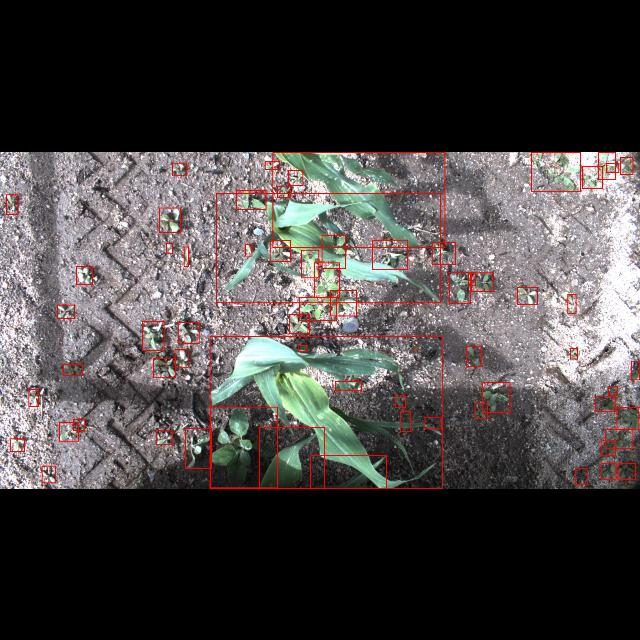crop: (210, 336, 442, 488), (216, 192, 440, 302), (273, 152, 445, 246), (259, 427, 325, 488), (310, 456, 386, 488)
weed: (210, 407, 278, 488), (532, 152, 580, 190), (185, 428, 211, 468), (372, 240, 408, 268), (314, 262, 340, 298), (300, 296, 336, 320), (482, 382, 510, 412), (322, 234, 346, 268), (330, 290, 356, 316), (142, 320, 164, 350), (450, 272, 470, 302), (236, 190, 266, 208), (605, 429, 633, 448), (432, 242, 456, 264), (160, 206, 180, 232), (617, 407, 639, 429), (598, 152, 616, 178), (302, 249, 318, 277), (582, 165, 602, 187), (153, 358, 175, 377), (178, 322, 198, 342), (270, 240, 290, 260), (289, 314, 309, 334), (471, 272, 493, 290), (517, 286, 537, 304), (60, 422, 78, 441), (466, 346, 482, 366), (77, 266, 93, 284), (618, 463, 636, 479), (334, 381, 362, 391), (595, 396, 615, 410), (600, 463, 616, 479), (600, 440, 616, 456), (620, 156, 634, 174), (6, 194, 18, 214), (175, 349, 188, 367), (58, 304, 74, 318), (42, 466, 56, 482), (156, 430, 172, 444), (288, 170, 304, 184), (424, 417, 442, 429), (63, 364, 83, 374), (401, 411, 411, 431), (10, 438, 24, 452), (474, 404, 488, 418), (575, 468, 587, 484), (28, 388, 38, 406), (173, 162, 187, 174), (631, 361, 639, 379), (568, 294, 576, 312), (74, 419, 85, 431), (278, 186, 290, 197), (264, 160, 280, 168), (395, 395, 405, 407), (606, 162, 618, 172), (468, 272, 476, 284), (245, 243, 252, 255), (184, 246, 188, 266), (570, 348, 578, 358), (608, 386, 618, 394), (166, 243, 172, 253), (298, 345, 308, 351)
